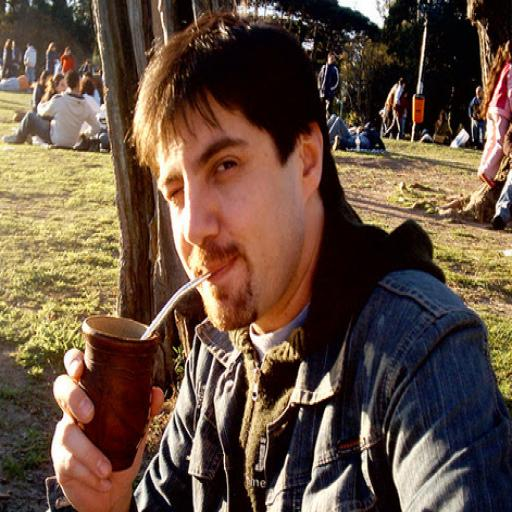mate: (79, 315, 159, 469)
